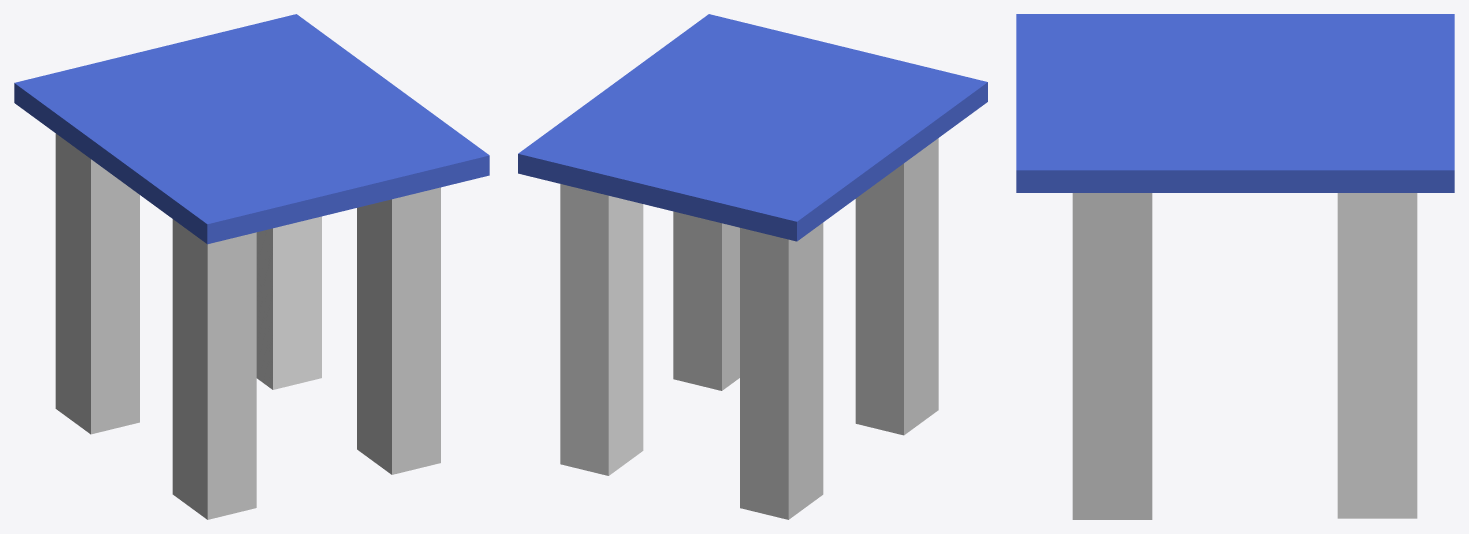
The model's file is Hocker.fbx.
3 views of the same model, side by side, from view 1: azimuth 30°, elevation 25°; view 2: azimuth 150°, elevation 25°; view 3: azimuth 270°, elevation 25° (orthographic). The views are drawn at different scales.
Parts seen in each view (by area): view 1: Cube.004, Cube.002, Cube.001, Cube, Cube.003; view 2: Cube.004, Cube, Cube.003, Cube.002, Cube.001; view 3: Cube.004, Cube.001, Cube.003.
Part boxes in pixels (x1,y1,x2,y2): Cube.004: [14, 14, 489, 244]; Cube.002: [172, 219, 256, 519]; Cube.001: [357, 187, 440, 474]; Cube: [55, 133, 139, 434]; Cube.003: [256, 216, 321, 389]; Cube.004: [518, 14, 987, 241]; Cube: [740, 223, 823, 519]; Cube.003: [560, 184, 643, 475]; Cube.002: [855, 138, 938, 435]; Cube.001: [673, 211, 739, 390]; Cube.004: [1016, 14, 1454, 192]; Cube.001: [1072, 193, 1152, 519]; Cube.003: [1337, 193, 1417, 518].
Size of the model in its own units: 119 by 129 by 141.
